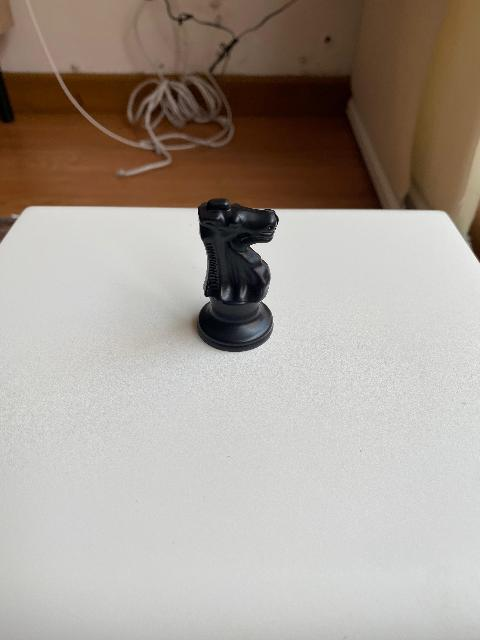black-knight: (195, 196, 279, 352)
